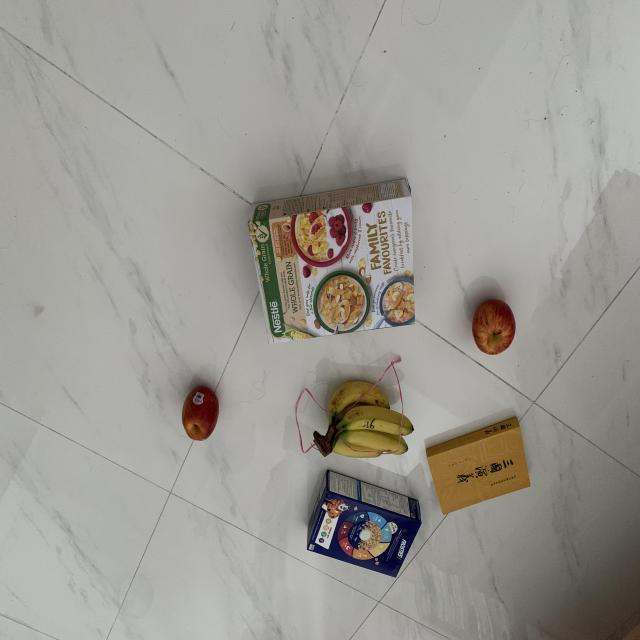Apple: (158, 373, 230, 457), (466, 296, 521, 361)
Banana: (289, 365, 415, 465)
Book: (427, 412, 539, 522)
Cerealbox: (242, 165, 418, 356), (294, 463, 427, 586)
